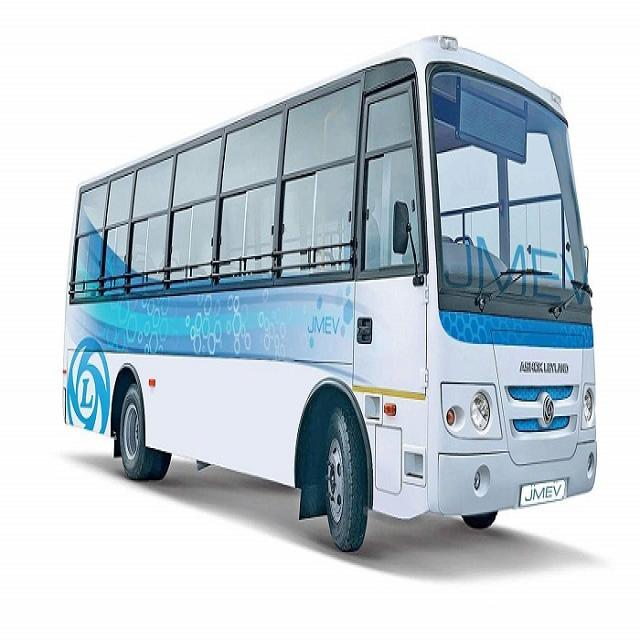bus: (64, 38, 598, 549)
